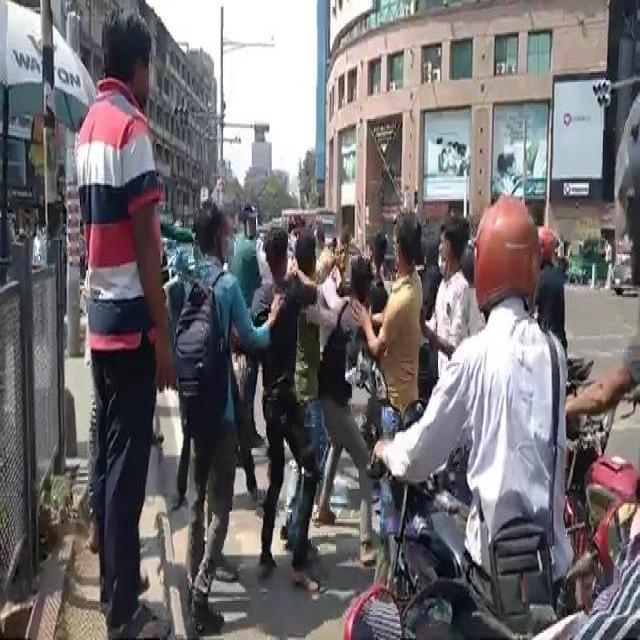fight: (57, 1, 174, 619), (235, 197, 420, 503), (428, 218, 568, 580)
